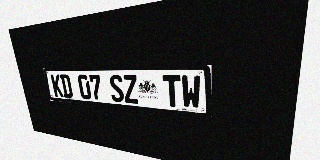0: (77, 74, 92, 100)
7: (88, 75, 103, 101)
D: (59, 74, 73, 98)
K: (50, 74, 64, 97)
S: (108, 75, 125, 103)
T: (162, 75, 181, 108)
W: (181, 75, 201, 109)
Z: (122, 75, 139, 104)
